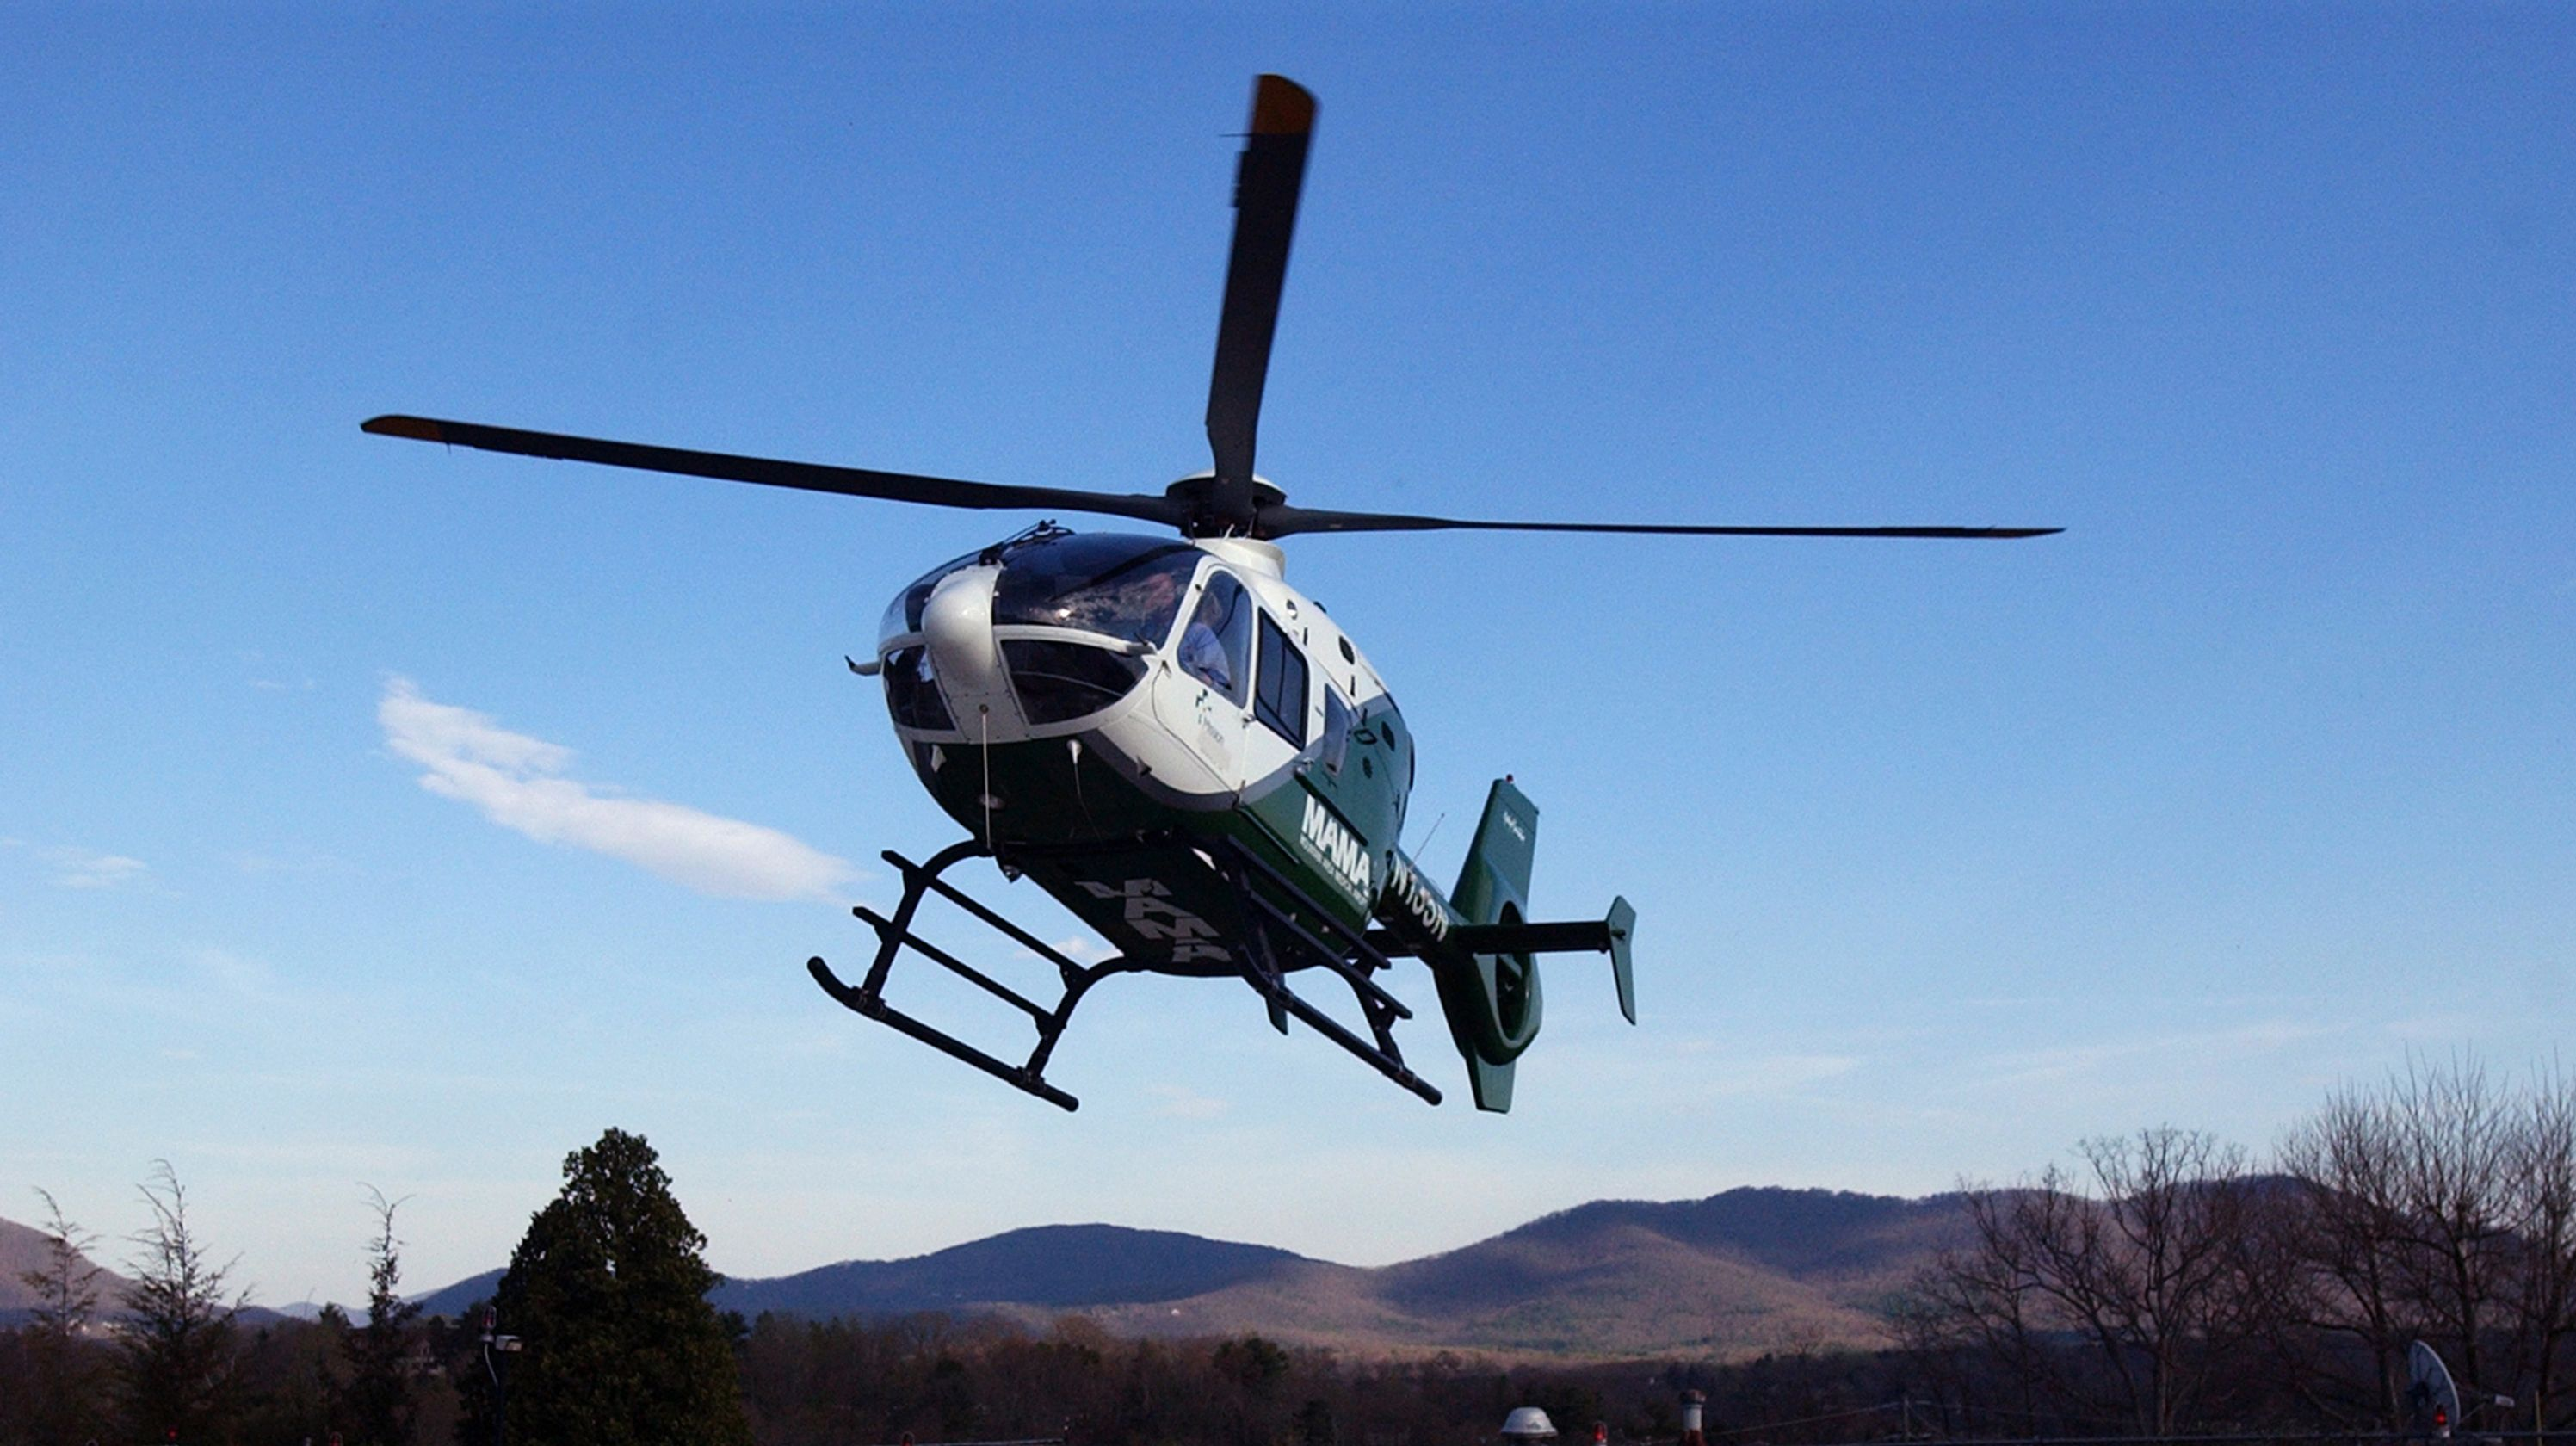Helicopter: (363, 67, 2072, 1122)
